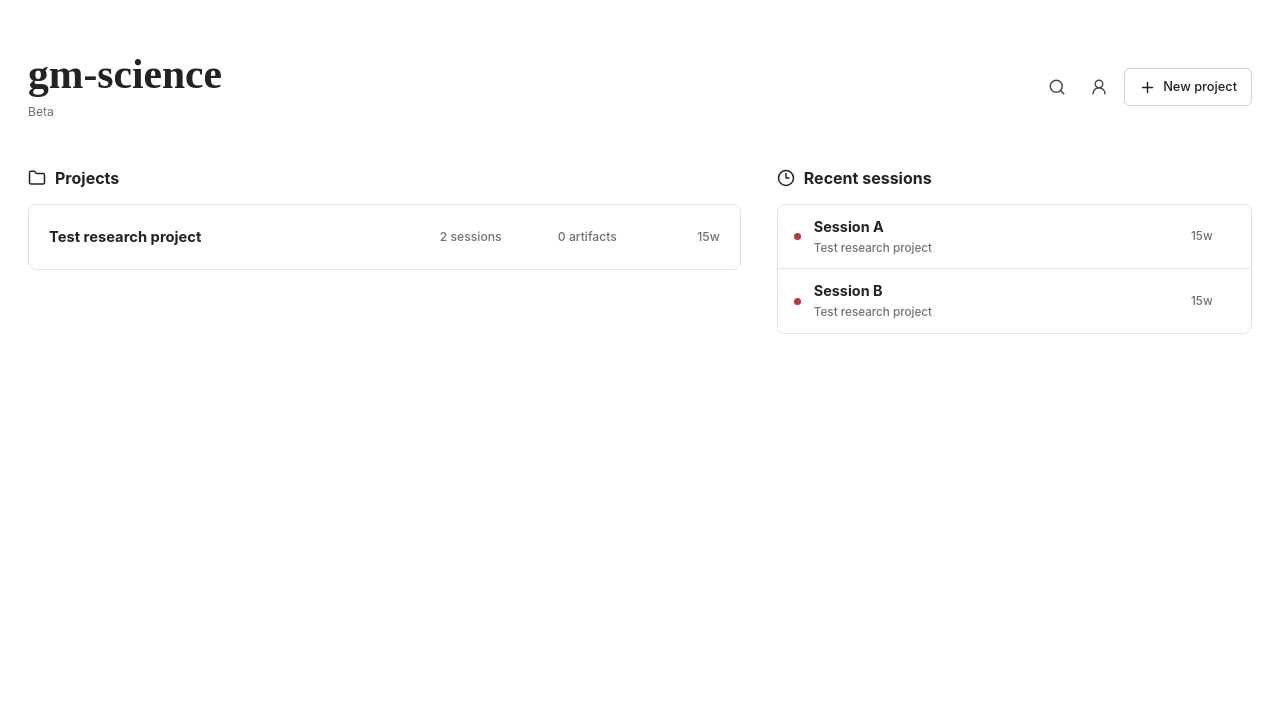
Test: App sending state › renders an icon send button that activates when composer has text
Click the button "Test research project 2 sessions 0 artifacts 15w" at (125, 237), box [29,205,740,269]
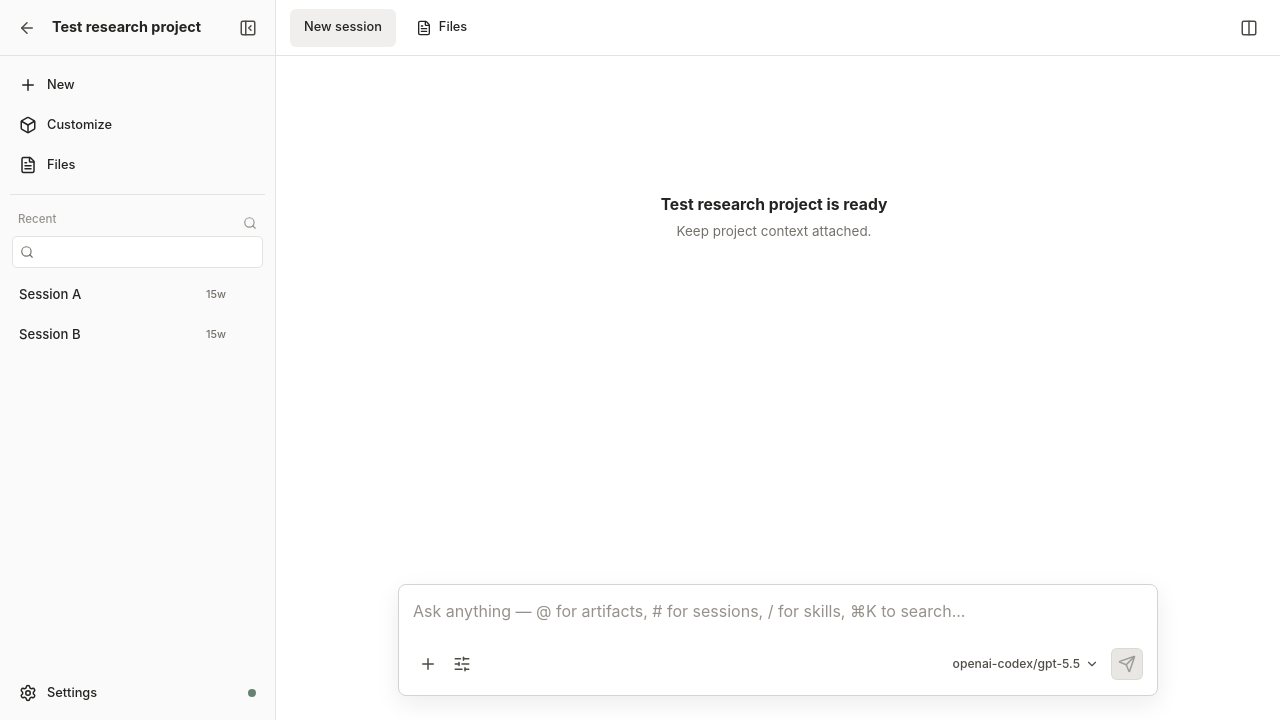
Result: the button named "Send" is disabled at [1111,648,1143,680]
Replace the text in the text box named "Message" with "hello world" at (778, 623), box [413,599,1143,647]
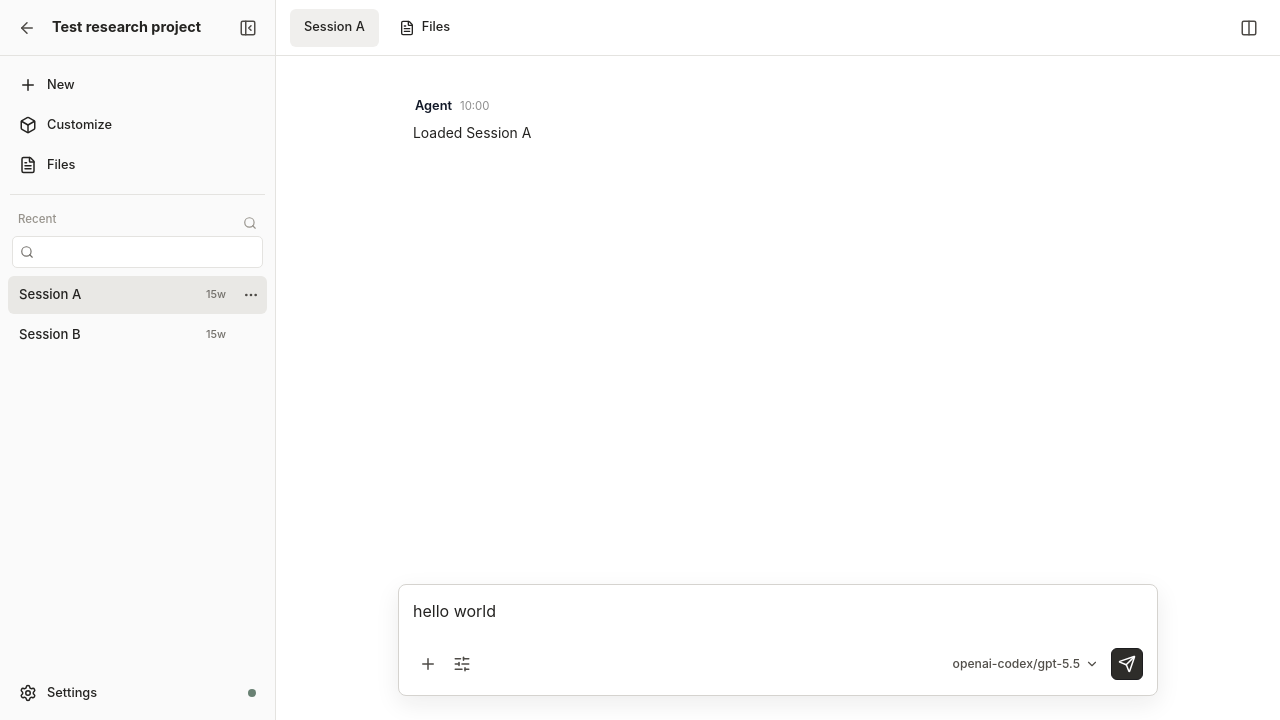
Result: the button named "Send" is enabled at [1111,648,1143,680]
